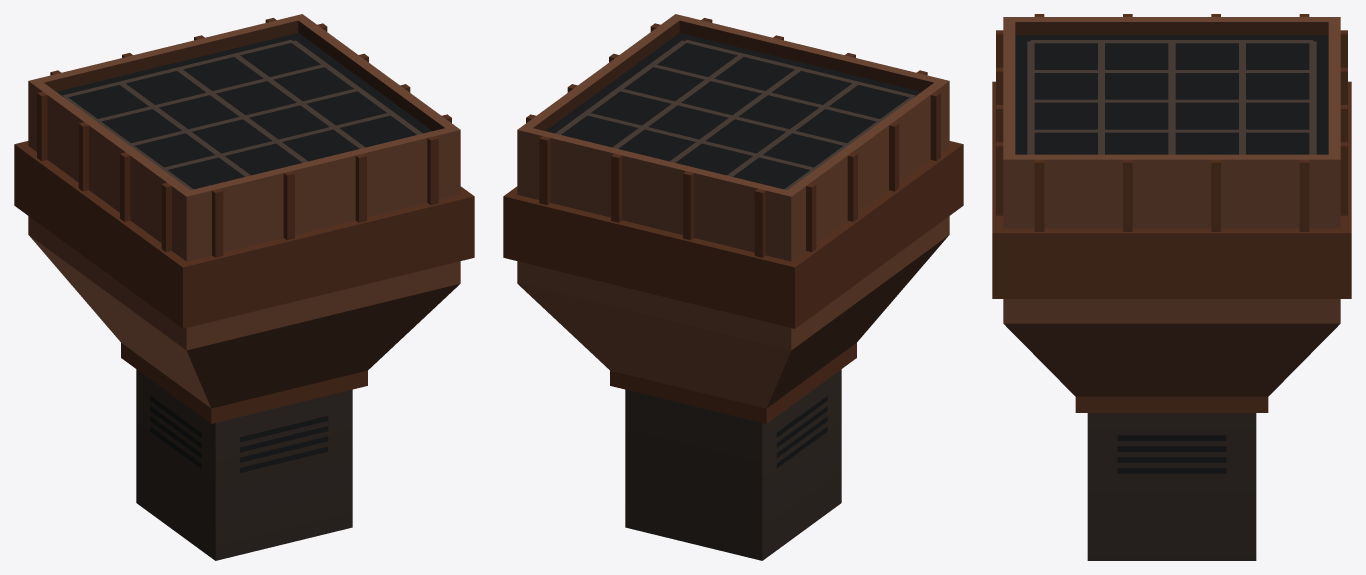
File: hopper.tall.rust.glb
3 views of the same model, side by side, from view 1: azimuth 30°, elevation 25°; view 2: azimuth 150°, elevation 25°; view 3: azimuth 270°, elevation 25° (orthographic). The views are drawn at different scales.
Visible parts, largest first — view 1: hopper_tall_rust; view 2: hopper_tall_rust; view 3: hopper_tall_rust.
Part boxes in pixels (box(x1,y1,x2,y2)): hopper_tall_rust: box(14, 14, 474, 560); hopper_tall_rust: box(503, 14, 963, 560); hopper_tall_rust: box(992, 14, 1351, 560).
Size of what is drawn, in the model's own units: 2.98 by 4 by 2.98.
